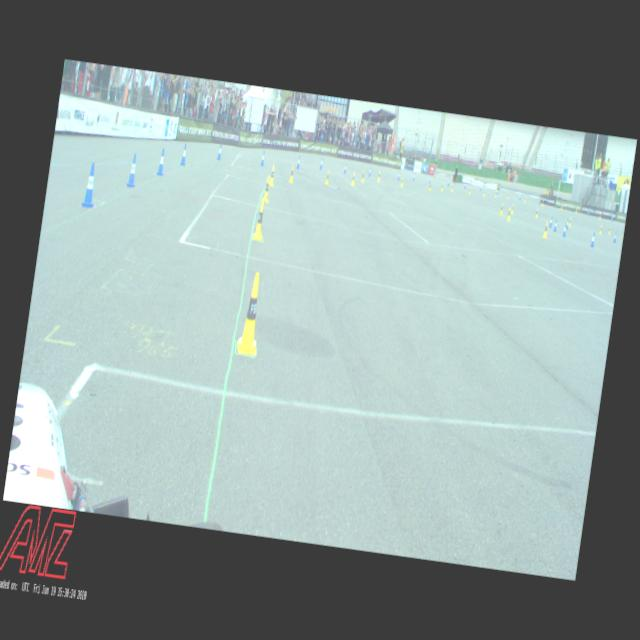blue_cone: (82, 162, 100, 209), (126, 153, 140, 188), (157, 148, 167, 176), (180, 144, 188, 166), (217, 144, 223, 160), (590, 232, 596, 248), (260, 151, 266, 167), (548, 216, 554, 227), (296, 156, 301, 169), (553, 219, 558, 232), (613, 231, 618, 243), (562, 224, 567, 236), (320, 157, 324, 169), (566, 218, 570, 230), (344, 163, 348, 174), (368, 167, 372, 177), (412, 172, 416, 182), (428, 175, 432, 183), (398, 171, 400, 180), (448, 178, 450, 186), (480, 184, 482, 192), (464, 182, 466, 190), (519, 193, 521, 200), (496, 188, 498, 195), (588, 210, 590, 217), (538, 199, 540, 205), (611, 216, 613, 222)
yellow_cone: (236, 272, 267, 356), (252, 199, 268, 241), (264, 176, 272, 204), (269, 165, 276, 186), (542, 221, 549, 239), (289, 165, 295, 183), (324, 169, 330, 185), (506, 207, 512, 221), (360, 170, 366, 183), (351, 172, 356, 186), (500, 202, 504, 215), (428, 180, 432, 192), (377, 171, 381, 182), (510, 203, 514, 214), (568, 218, 572, 228), (468, 186, 472, 195), (401, 177, 404, 187), (608, 226, 611, 236), (451, 182, 454, 192), (483, 188, 486, 197), (441, 182, 444, 191), (494, 190, 497, 198), (600, 224, 602, 234), (536, 208, 538, 218), (506, 192, 508, 200), (524, 195, 526, 203), (576, 206, 578, 214), (542, 200, 544, 207), (560, 204, 562, 211), (600, 212, 602, 219)
